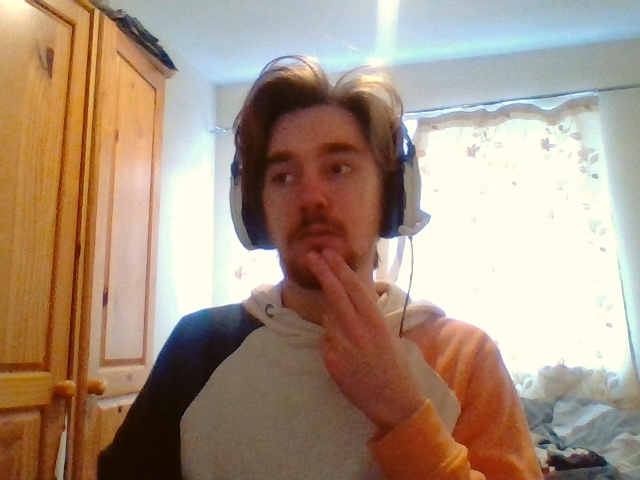afternoon: (306, 248, 388, 405)
